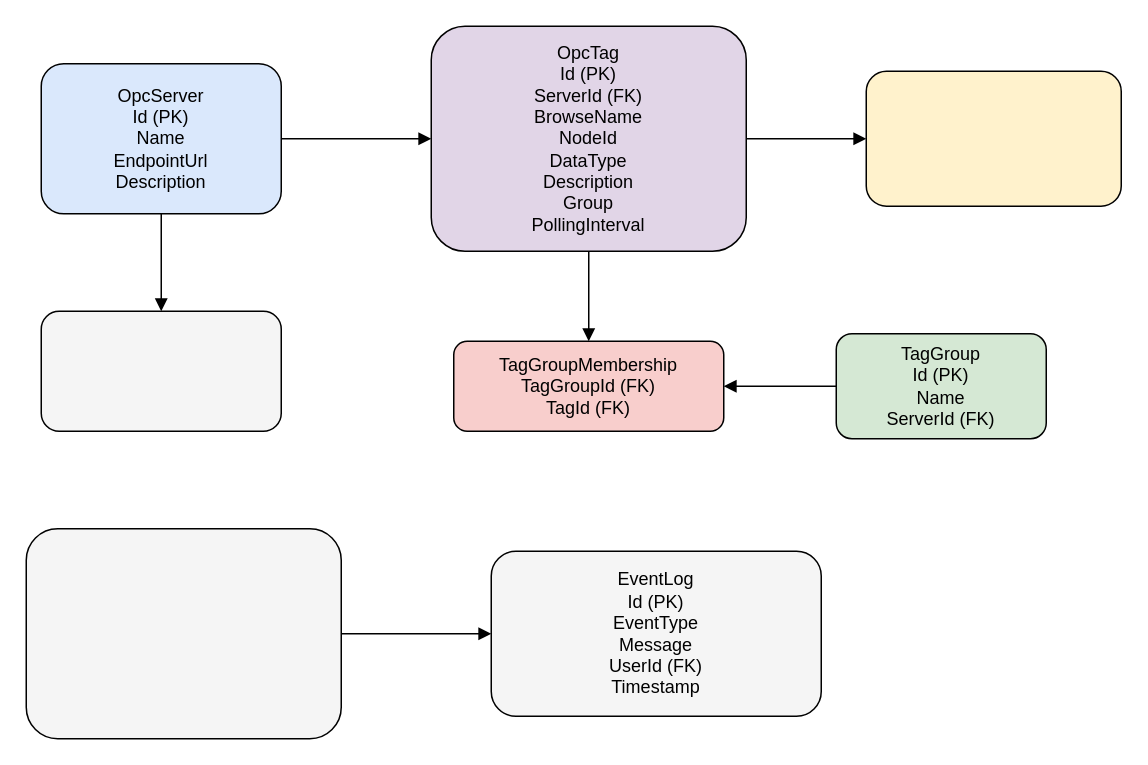
Some shapes in this 1148 by 765 pixel diagram are drawn without their labels. Here are the shapes that lost their labels. From the top down, the box of each, then its label:
(865, 70, 1121, 206): OpcData Id (PK) TagId (FK) Value Timestamp Status
(40, 310, 281, 431): Settings Id (PK) ServerId (FK) ParamName ParamValue
(25, 527, 341, 739): User Id (PK) UserName Email Role PasswordHash
